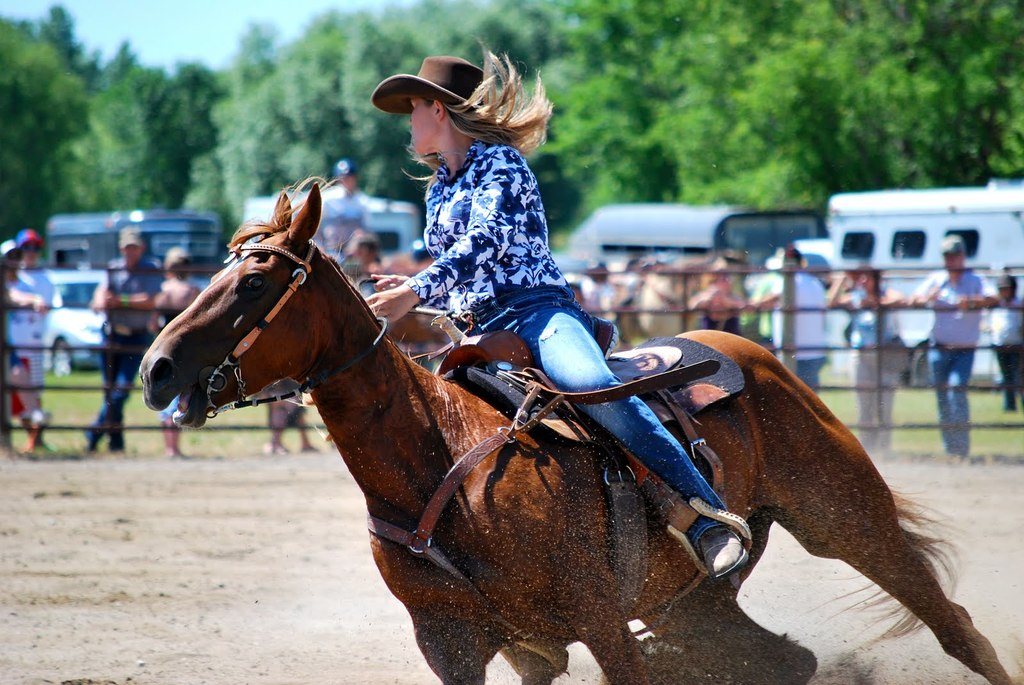Person: (0, 34, 1024, 581), (358, 31, 748, 577)
